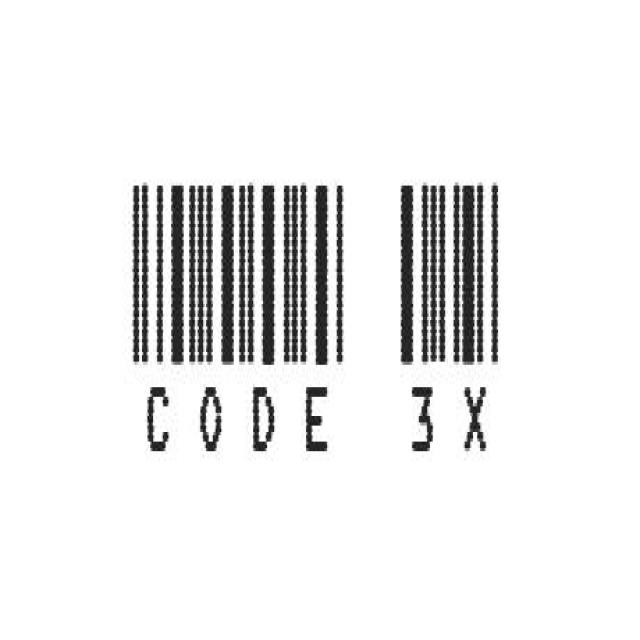Barkod: (125, 168, 505, 462)
